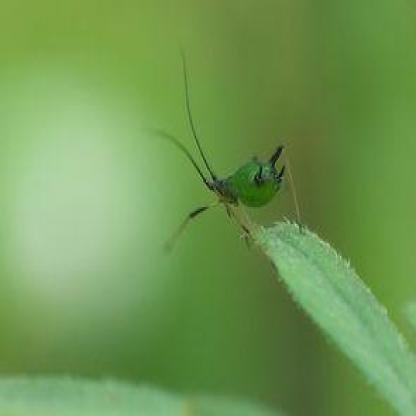aphid: (143, 79, 307, 244)
